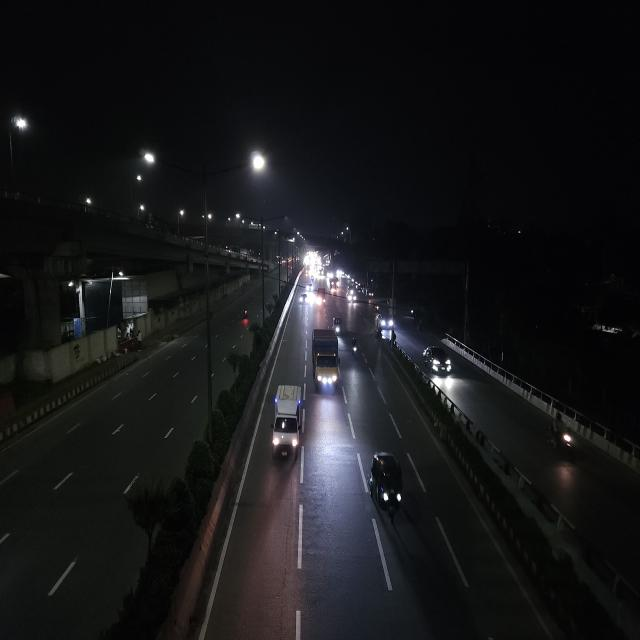bus: (311, 326, 341, 398), (329, 276, 340, 296)
car: (422, 343, 454, 377), (375, 311, 395, 330), (298, 290, 308, 306)
cng: (367, 446, 409, 528), (331, 314, 343, 337)
motorcycle: (544, 411, 576, 459), (350, 331, 361, 362), (239, 306, 251, 322)
truck: (268, 384, 307, 468), (311, 326, 341, 398), (315, 288, 327, 306)
